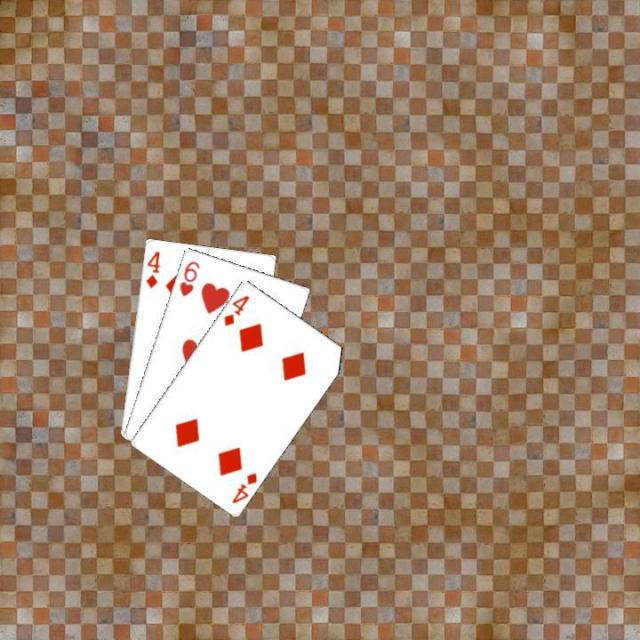4D: (220, 291, 252, 327), (228, 468, 258, 505), (141, 247, 162, 290)
6H: (175, 257, 201, 298)
